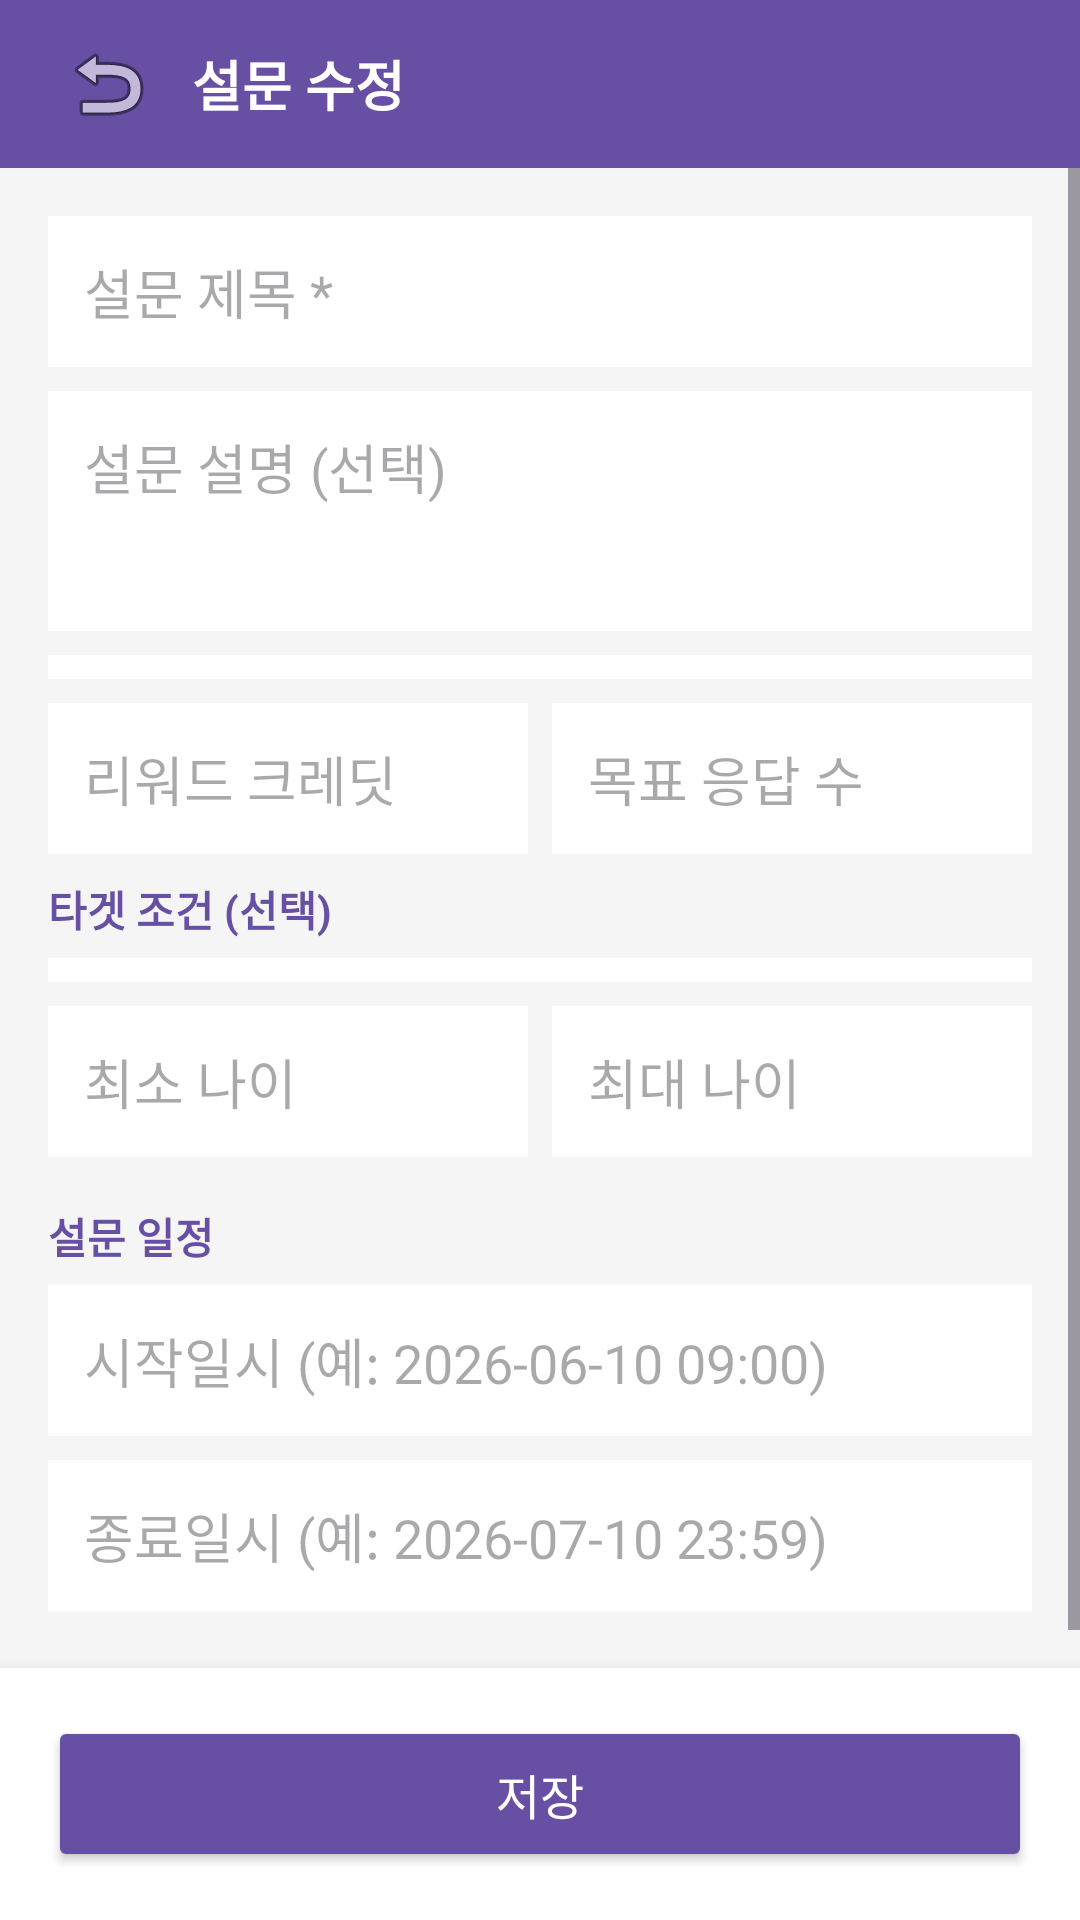

Point at icon controls on the screen. Image size 1080w x 1920h, points as point (x, y).
뒤로가기: point (109, 84)
